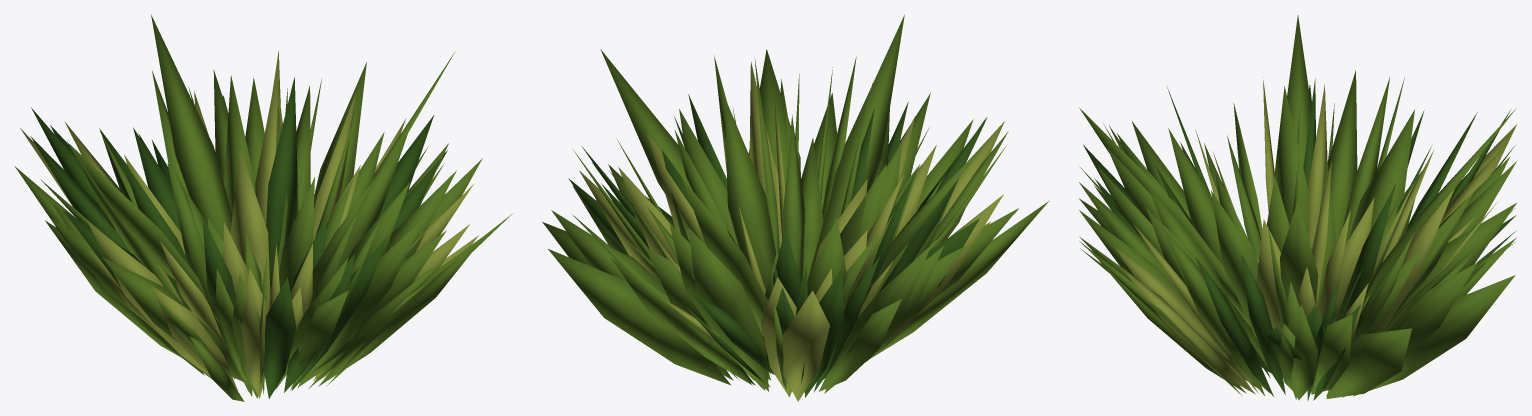
Rendered from MV_Grass_Tuft_Small.fbx.
3 views of the same model, side by side, from view 1: azimuth 30°, elevation 25°; view 2: azimuth 150°, elevation 25°; view 3: azimuth 270°, elevation 25° (orthographic). The views are drawn at different scales.
Visible parts, largest first — view 1: LOD0_Mesh, LOD1_Mesh, LOD2_Mesh; view 2: LOD2_Mesh, LOD1_Mesh, LOD0_Mesh; view 3: LOD2_Mesh, LOD0_Mesh, LOD1_Mesh.
Boxes of the visible parts, box(x1,y1,x2,y2) form: LOD0_Mesh: box(14, 62, 486, 398); LOD1_Mesh: box(30, 51, 478, 398); LOD2_Mesh: box(20, 14, 512, 401); LOD2_Mesh: box(542, 15, 1049, 401); LOD1_Mesh: box(579, 61, 1018, 397); LOD0_Mesh: box(568, 55, 1018, 393); LOD2_Mesh: box(1079, 15, 1516, 400); LOD0_Mesh: box(1079, 70, 1516, 401); LOD1_Mesh: box(1079, 103, 1516, 399).
Size of the model in its own units: 0.32 by 0.2199 by 0.32.
